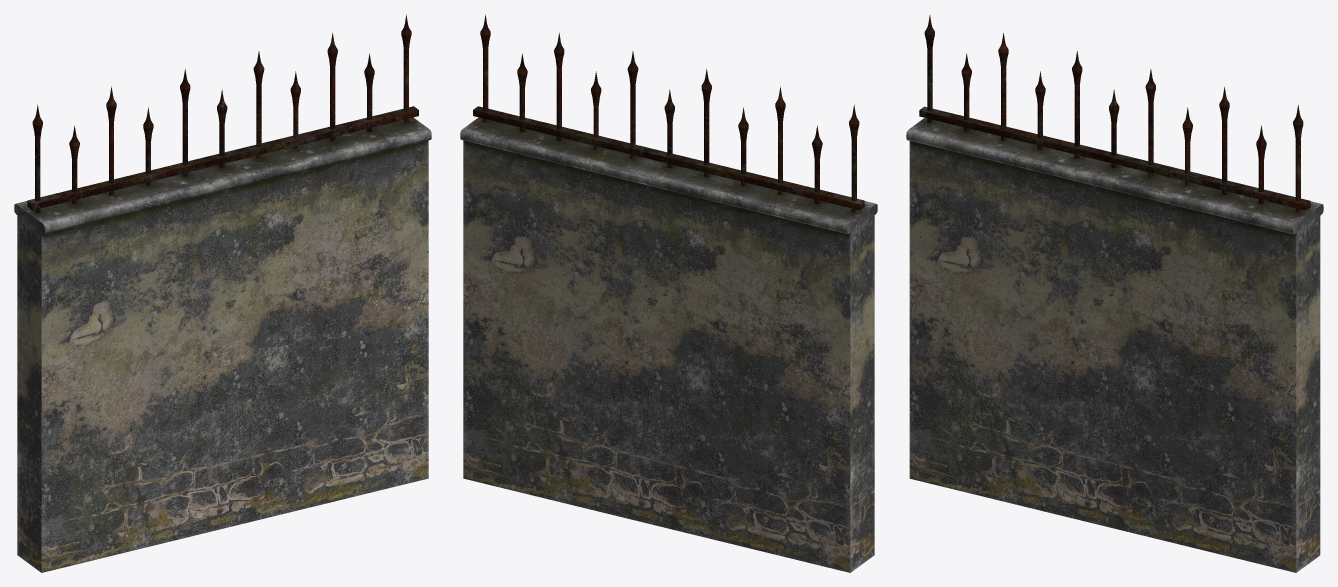
The model's file is SM_fence_23.fbx.
3 views of the same model, side by side, from view 1: azimuth 30°, elevation 25°; view 2: azimuth 150°, elevation 25°; view 3: azimuth 330°, elevation 25° (orthographic).
Parts seen in each view (by area): view 1: SM_fence_23; view 2: SM_fence_23; view 3: SM_fence_23.
Part boxes in pixels (box(x1,y1,x2,y2)): SM_fence_23: box(14, 14, 431, 572); SM_fence_23: box(460, 14, 877, 572); SM_fence_23: box(906, 15, 1323, 572).
Bounding box in the file's own units: 341 × 385 × 46.92.
